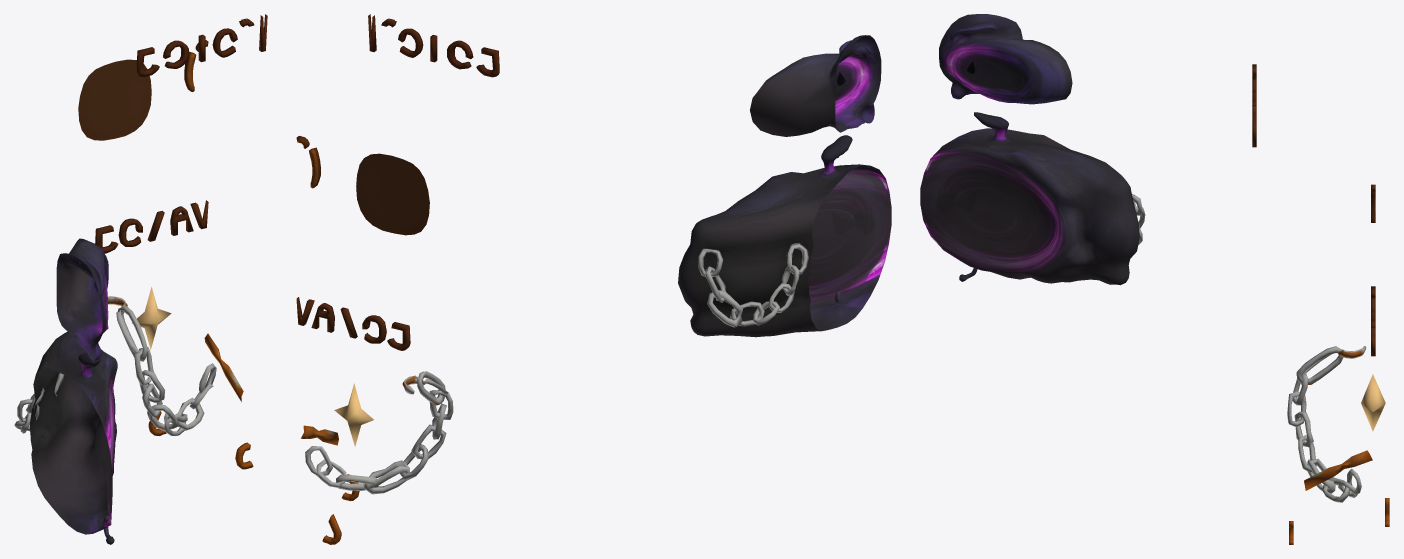
Rendered from 019dfa38-d287-7c1b-89df-8b94e1029086.glb.
3 renders of one model, left to right at view 1: azimuth 30°, elevation 25°; view 2: azimuth 150°, elevation 25°; view 3: azimuth 270°, elevation 25°, orthographic. The views are drawn at different scales.
Visible parts, largest first — view 1: tripo_node_8182d00a-df01-4a4b-9eff-ea0f31b95236; view 2: tripo_node_8182d00a-df01-4a4b-9eff-ea0f31b95236; view 3: tripo_node_8182d00a-df01-4a4b-9eff-ea0f31b95236.
Boxes of the visible parts, x1=… form: tripo_node_8182d00a-df01-4a4b-9eff-ea0f31b95236: x1=14, y1=14, x2=267, y2=544; tripo_node_8182d00a-df01-4a4b-9eff-ea0f31b95236: x1=296, y1=14, x2=891, y2=544; tripo_node_8182d00a-df01-4a4b-9eff-ea0f31b95236: x1=920, y1=14, x2=1389, y2=544.
Size of the model in its own units: 0.7676 by 0.998 by 0.9941.
1 material, 1 textured.
